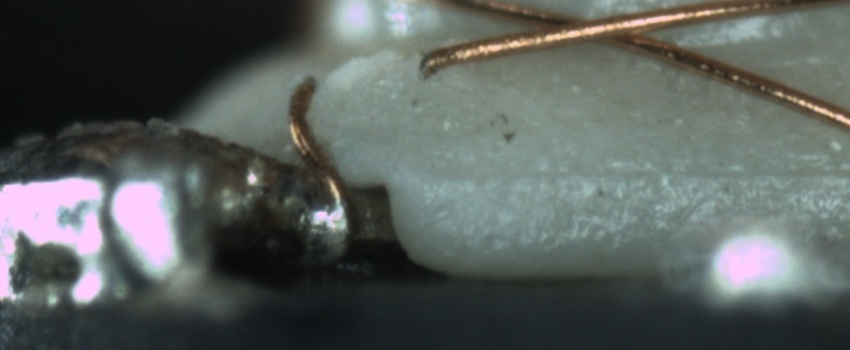CL: (510, 8, 685, 51)
DL: (407, 144, 850, 210)
